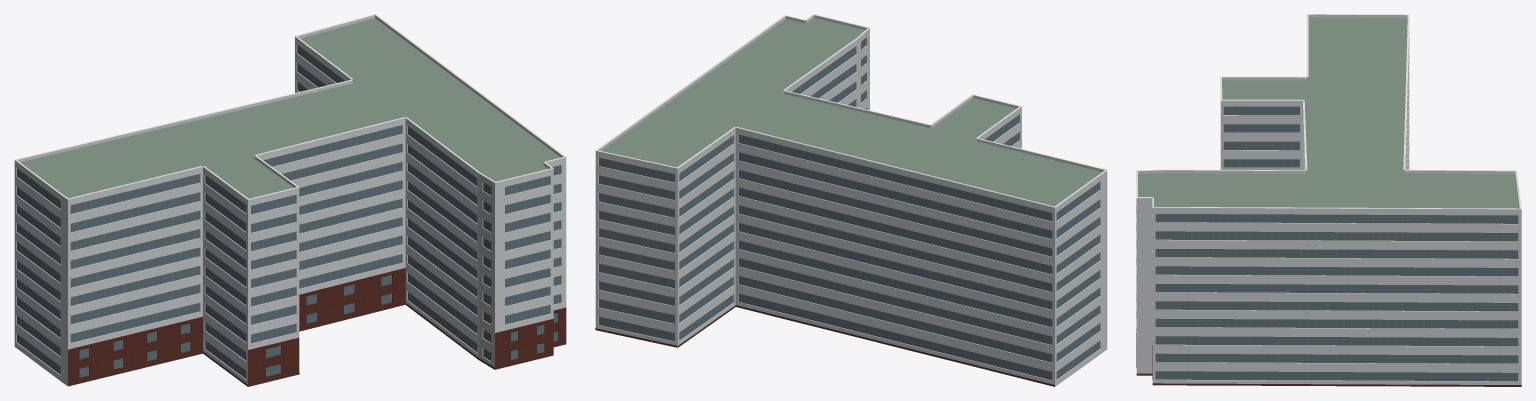
The picture shows the model from 3 angles, left to right: view 1: azimuth 30°, elevation 25°; view 2: azimuth 150°, elevation 25°; view 3: azimuth 270°, elevation 25°; orthographic projection. The views are drawn at different scales.
Visible parts, largest first — view 1: humanitiesC__wall, humanitiesC__glass, humanitiesC__roof, humanitiesC__base, humanitiesC__frame, humanitiesC__parapet, humanitiesC__trim; view 2: humanitiesC__wall, humanitiesC__glass, humanitiesC__roof, humanitiesC__frame, humanitiesC__parapet, humanitiesC__trim, humanitiesC__base; view 3: humanitiesC__wall, humanitiesC__glass, humanitiesC__roof, humanitiesC__frame, humanitiesC__parapet, humanitiesC__trim, humanitiesC__base.
Part boxes in pixels (left/top/right/bottom): humanitiesC__wall: left=14, top=39, right=566, bottom=385; humanitiesC__glass: left=17, top=45, right=560, bottom=378; humanitiesC__roof: left=20, top=18, right=560, bottom=198; humanitiesC__base: left=68, top=268, right=566, bottom=386; humanitiesC__frame: left=20, top=50, right=543, bottom=376; humanitiesC__parapet: left=14, top=15, right=566, bottom=202; humanitiesC__trim: left=14, top=14, right=566, bottom=200; humanitiesC__wall: left=595, top=31, right=1107, bottom=386; humanitiesC__glass: left=599, top=37, right=1099, bottom=380; humanitiesC__roof: left=601, top=18, right=1101, bottom=206; humanitiesC__frame: left=605, top=49, right=1096, bottom=378; humanitiesC__parapet: left=595, top=15, right=1107, bottom=210; humanitiesC__trim: left=595, top=14, right=1107, bottom=207; humanitiesC__base: left=595, top=305, right=1054, bottom=386; humanitiesC__wall: left=1136, top=33, right=1521, bottom=384; humanitiesC__glass: left=1155, top=106, right=1518, bottom=381; humanitiesC__roof: left=1138, top=17, right=1519, bottom=208; humanitiesC__frame: left=1162, top=106, right=1511, bottom=381; humanitiesC__parapet: left=1136, top=14, right=1521, bottom=211; humanitiesC__trim: left=1136, top=14, right=1521, bottom=209; humanitiesC__base: left=1136, top=333, right=1521, bottom=386.
Size of the model in its own units: 88.61 by 37.6 by 73.96.
Materials: 7 (1 with a texture image).
